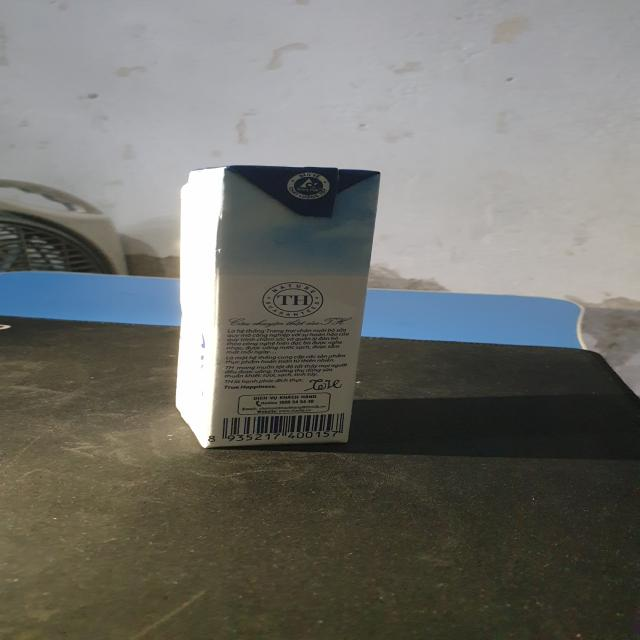TH: (169, 161, 390, 452)
